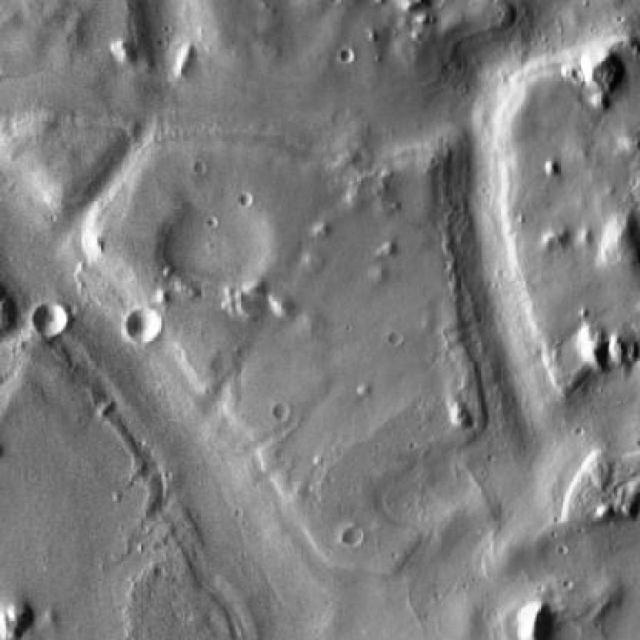crater: (163, 191, 271, 298), (32, 304, 68, 339), (126, 308, 160, 342), (342, 528, 362, 548), (272, 402, 288, 420), (337, 48, 352, 63)
